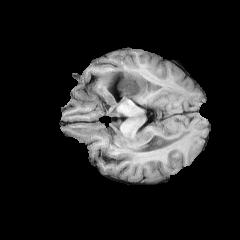glioma: (101, 68, 149, 104)
